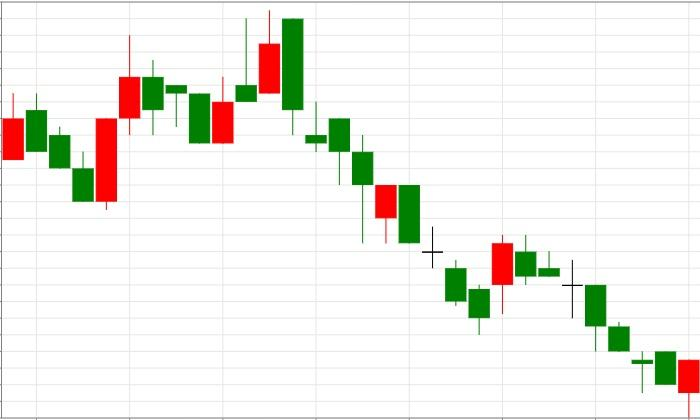bearish_engulfing_fall: (189, 9, 304, 144)
